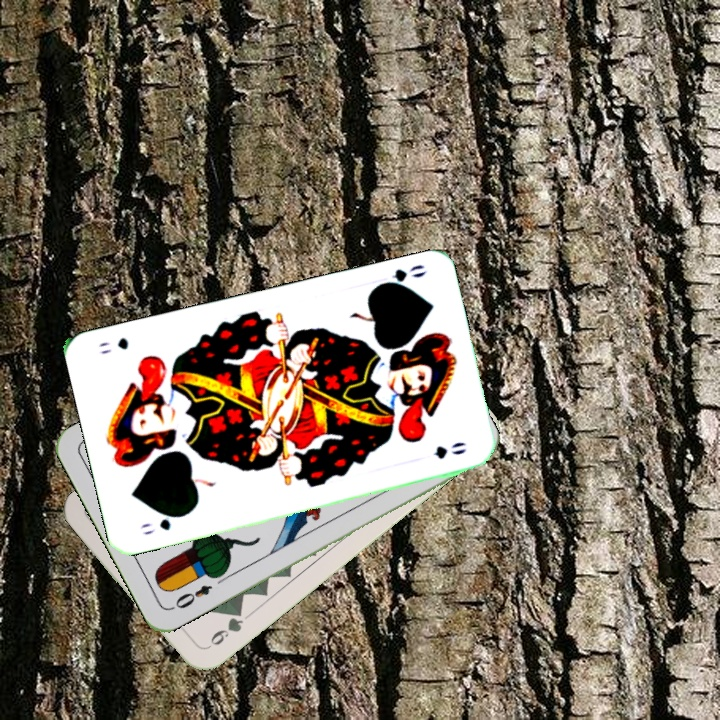EO: (167, 581, 215, 613)
G9: (201, 605, 246, 653)
GO: (372, 260, 429, 291), (137, 510, 188, 538)
